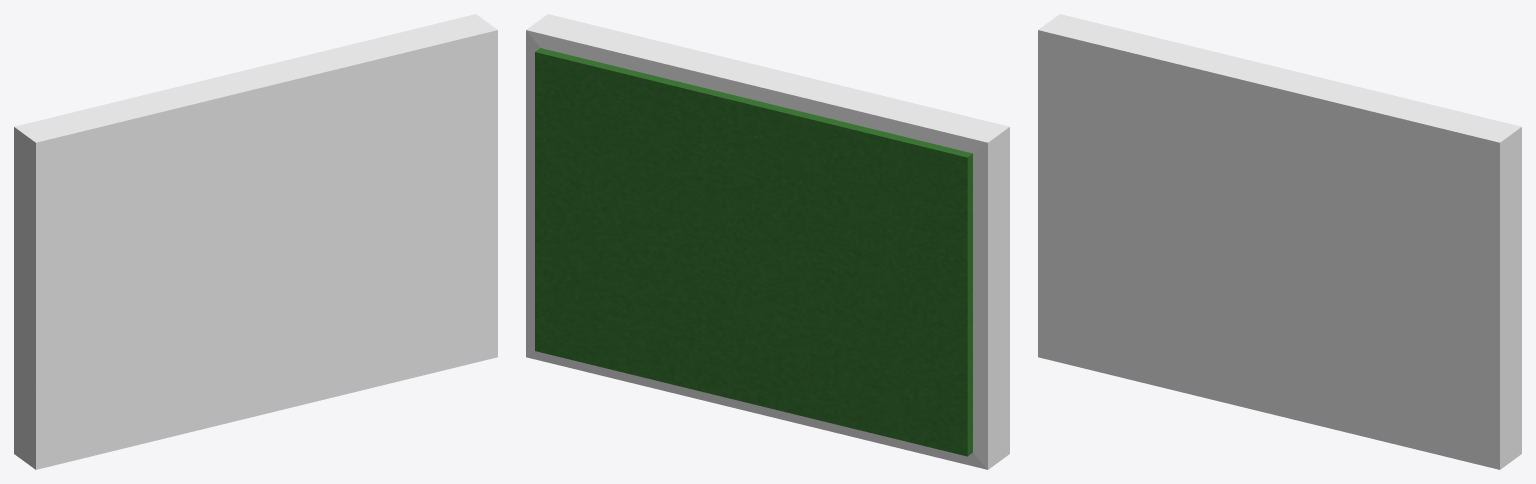
The model's file is venice_grass.fbx.
The picture shows the model from 3 angles, left to right: view 1: azimuth 30°, elevation 25°; view 2: azimuth 150°, elevation 25°; view 3: azimuth 330°, elevation 25°; orthographic projection.
Parts seen in each view (by area): view 1: Cube.354; view 2: Cube.354; view 3: Cube.354.
Boxes of the visible parts, x1=… form: Cube.354: x1=14, y1=14, x2=497, y2=469; Cube.354: x1=526, y1=14, x2=1009, y2=469; Cube.354: x1=1038, y1=14, x2=1521, y2=469.
Bounding box in the file's own units: 482 × 326 × 50.18.
